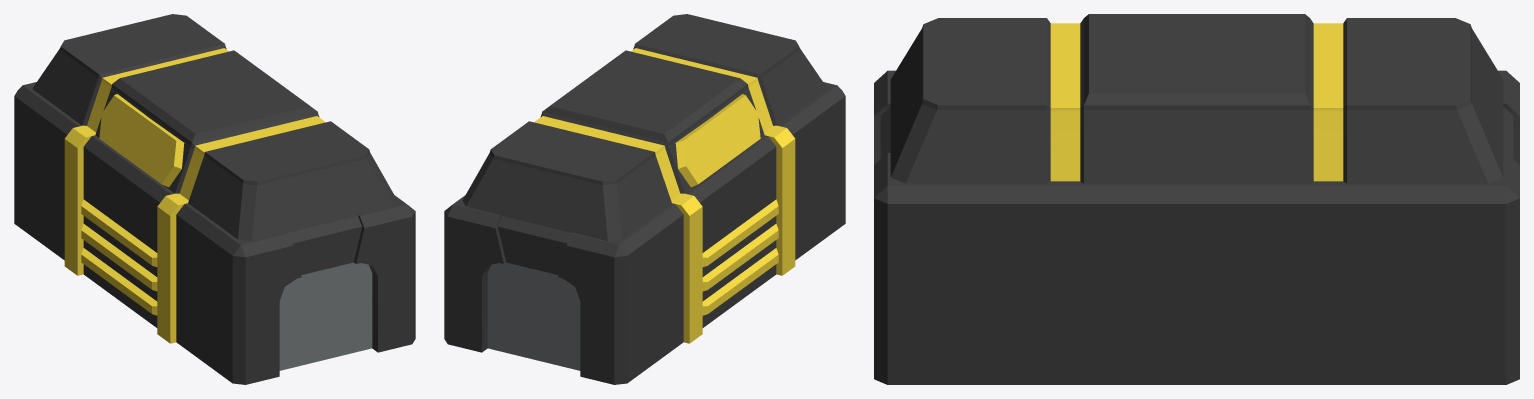
Rendered from Crate.fbx.
The picture shows the model from 3 angles, left to right: view 1: azimuth 30°, elevation 25°; view 2: azimuth 150°, elevation 25°; view 3: azimuth 270°, elevation 25°; orthographic projection. The views are drawn at different scales.
Parts seen in each view (by area): view 1: Crate_Base, Emissive_Part; view 2: Crate_Base, Emissive_Part; view 3: Crate_Base, Emissive_Part.
Boxes of the visible parts, bbox=[...] form: Crate_Base: bbox=[14, 14, 415, 384]; Emissive_Part: bbox=[64, 48, 325, 343]; Crate_Base: bbox=[444, 14, 845, 384]; Emissive_Part: bbox=[534, 48, 795, 343]; Crate_Base: bbox=[874, 14, 1519, 384]; Emissive_Part: bbox=[1050, 23, 1343, 181].
Size of the model in its own units: 0.7999 by 0.7615 by 1.66.
